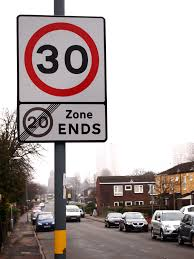Speed_limit_30km: (23, 22, 100, 97)
